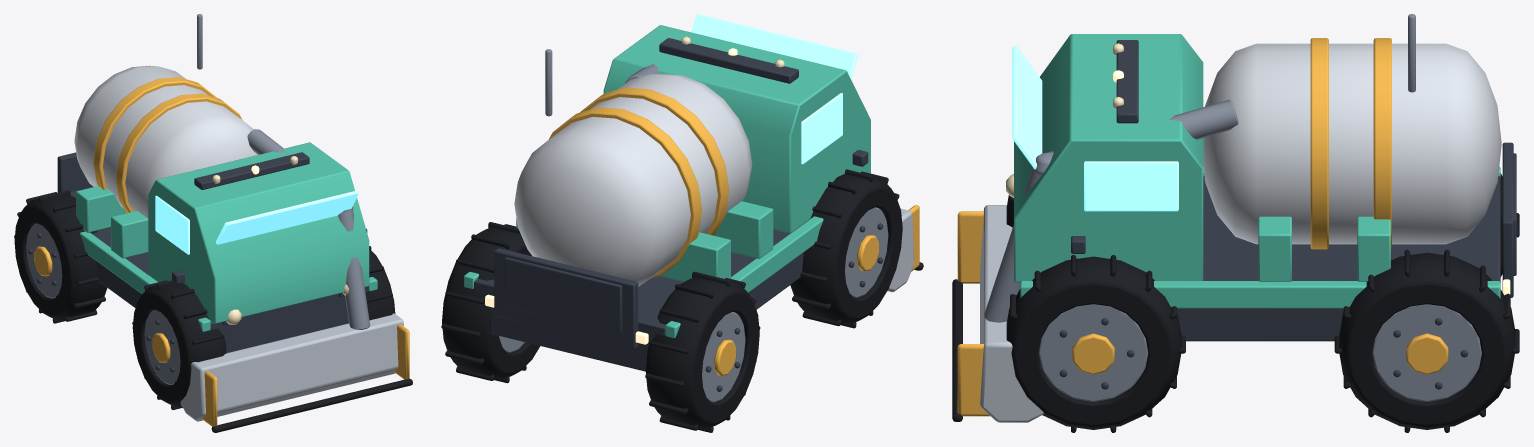
Rendered from sauger.fbx.
The picture shows the model from 3 angles, left to right: view 1: azimuth 30°, elevation 25°; view 2: azimuth 150°, elevation 25°; view 3: azimuth 270°, elevation 25°; orthographic projection. The views are drawn at different scales.
Visible parts, largest first — view 1: sauger_Koerper, sauger, sauger_Werkzeug; view 2: sauger_Koerper, sauger, sauger_Werkzeug; view 3: sauger_Koerper, sauger, sauger_Werkzeug.
Boxes of the visible parts, x1,y1,x2,y2 form: sauger_Koerper: (57, 14, 377, 352); sauger: (14, 190, 395, 409); sauger_Werkzeug: (180, 313, 412, 432); sauger_Koerper: (464, 14, 870, 371); sauger: (441, 169, 902, 432); sauger_Werkzeug: (887, 205, 923, 292); sauger_Koerper: (984, 14, 1516, 341); sauger: (1006, 173, 1519, 432); sauger_Werkzeug: (952, 205, 1043, 422).
Size of the model in its own units: 1.87 by 2.31 by 3.1.
